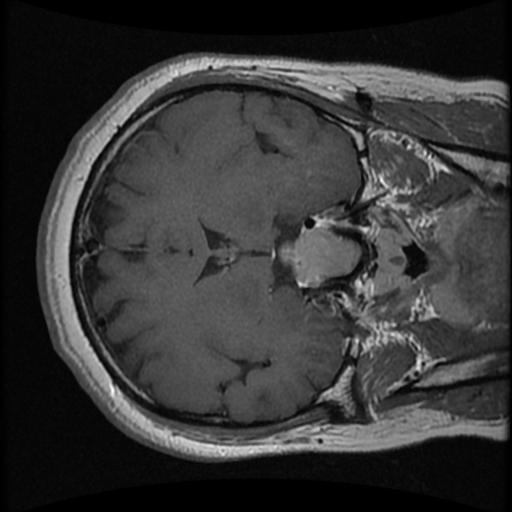pituitary tumour: (278, 228, 360, 286)
